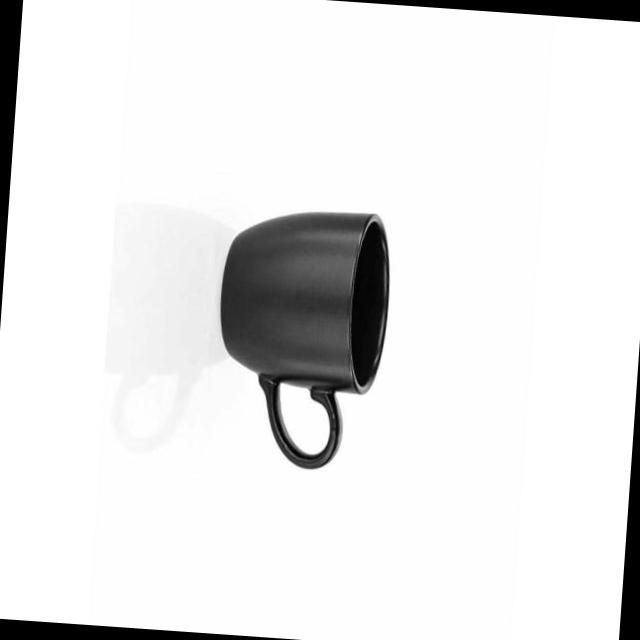Coffee Mug: (206, 200, 397, 473)
